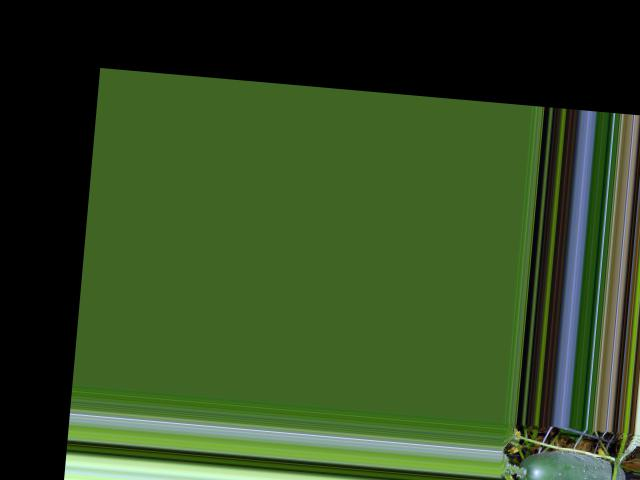cucumber: (514, 447, 626, 480)
